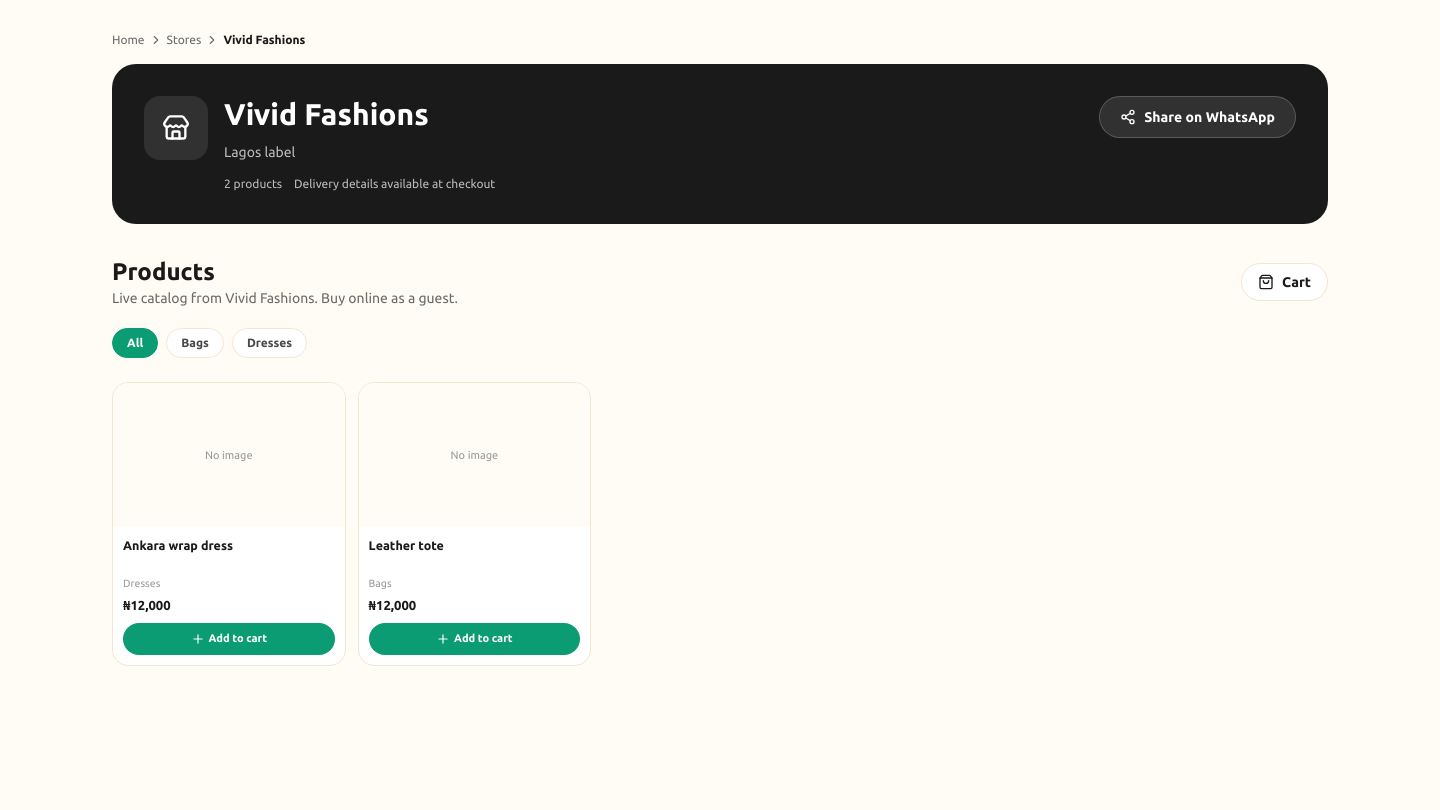
Test: SellerStorefront category filter › shows only the matching products after filtering
Expected: the link "Leather tote" is shown, [369, 538, 444, 552]
Click the button "Dresses": [270, 343] box [232, 328, 307, 358]
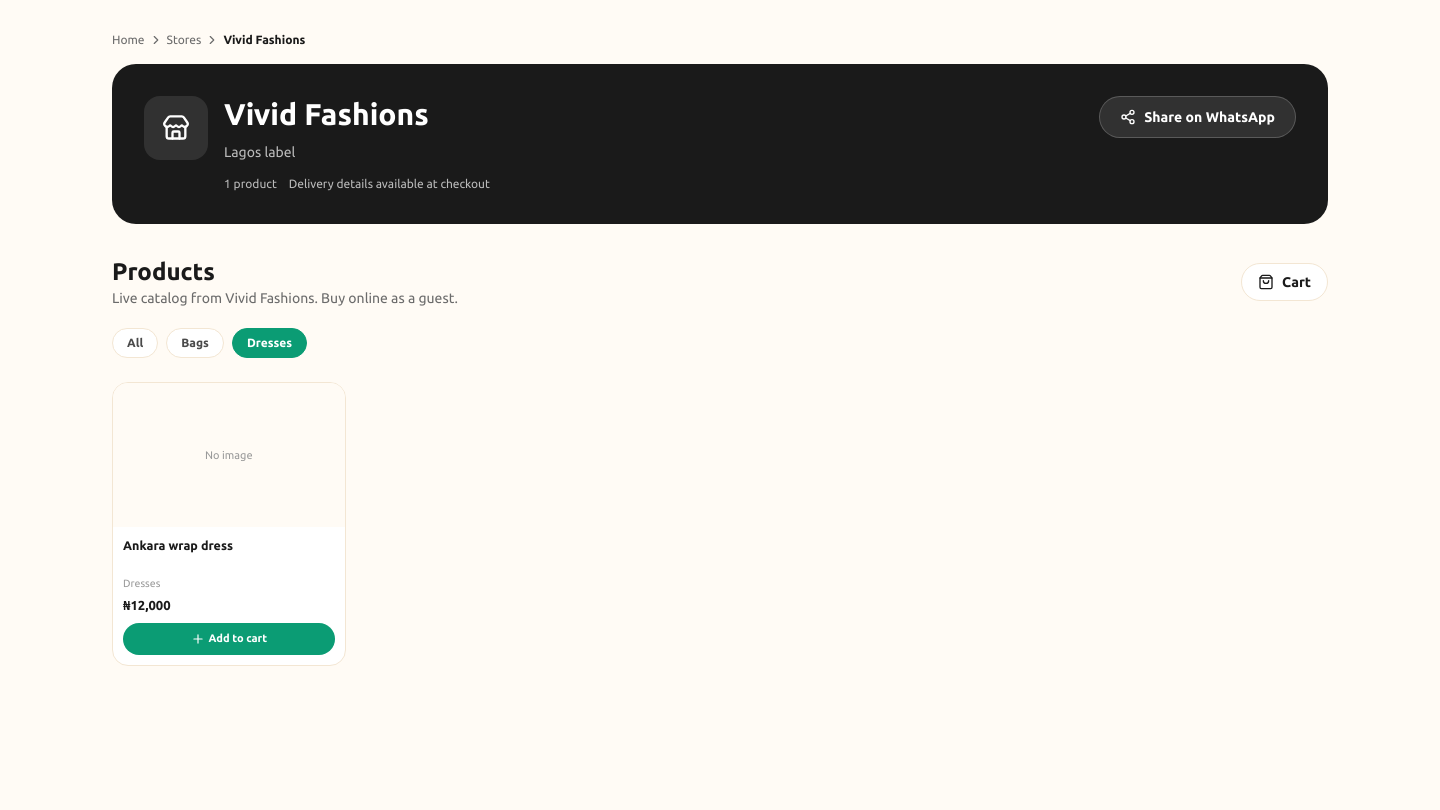
Expected: the link "Ankara wrap dress" is shown, [123, 538, 233, 552]
Expected: the link "Leather tote" is gone
